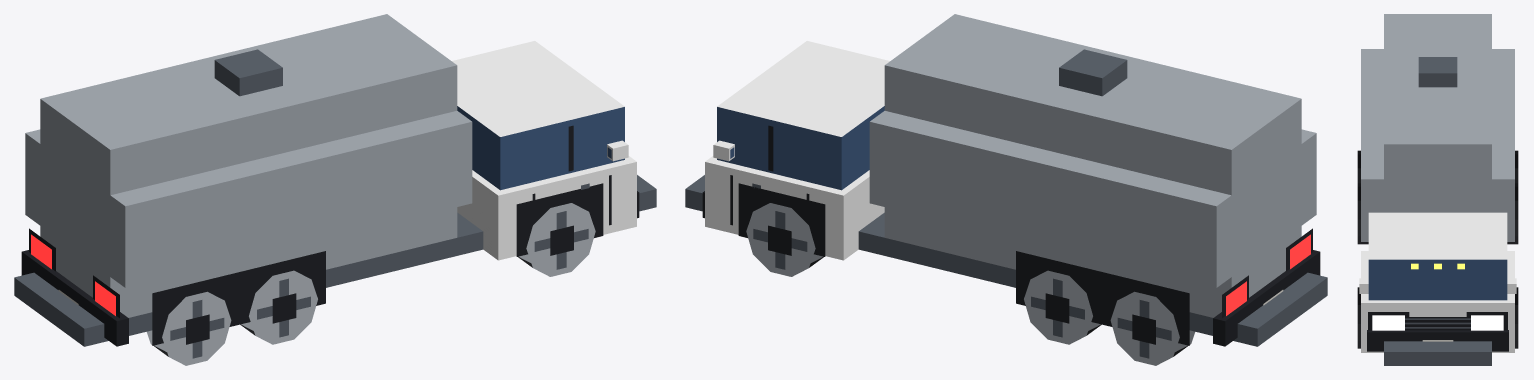
Rendered from truck_tanker.glb.
3 views of the same model, side by side, from view 1: azimuth 30°, elevation 25°; view 2: azimuth 150°, elevation 25°; view 3: azimuth 270°, elevation 25° (orthographic). The views are drawn at different scales.
Parts seen in each view (by area): view 1: truck_tanker; view 2: truck_tanker; view 3: truck_tanker.
Part boxes in pixels (x1,y1,x2,y2): truck_tanker: [14, 14, 656, 365]; truck_tanker: [685, 14, 1327, 365]; truck_tanker: [1357, 14, 1518, 365].
Size of the model in its own units: 0.66 by 0.26 by 0.2124.
